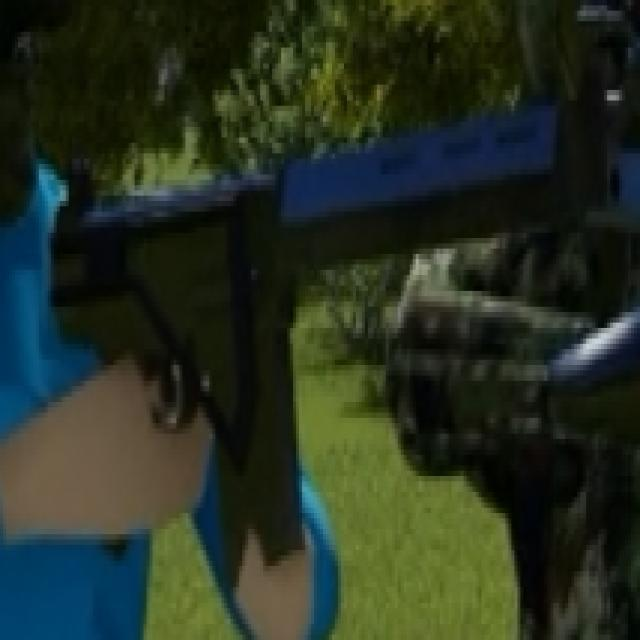Rifle: (37, 78, 575, 566)
